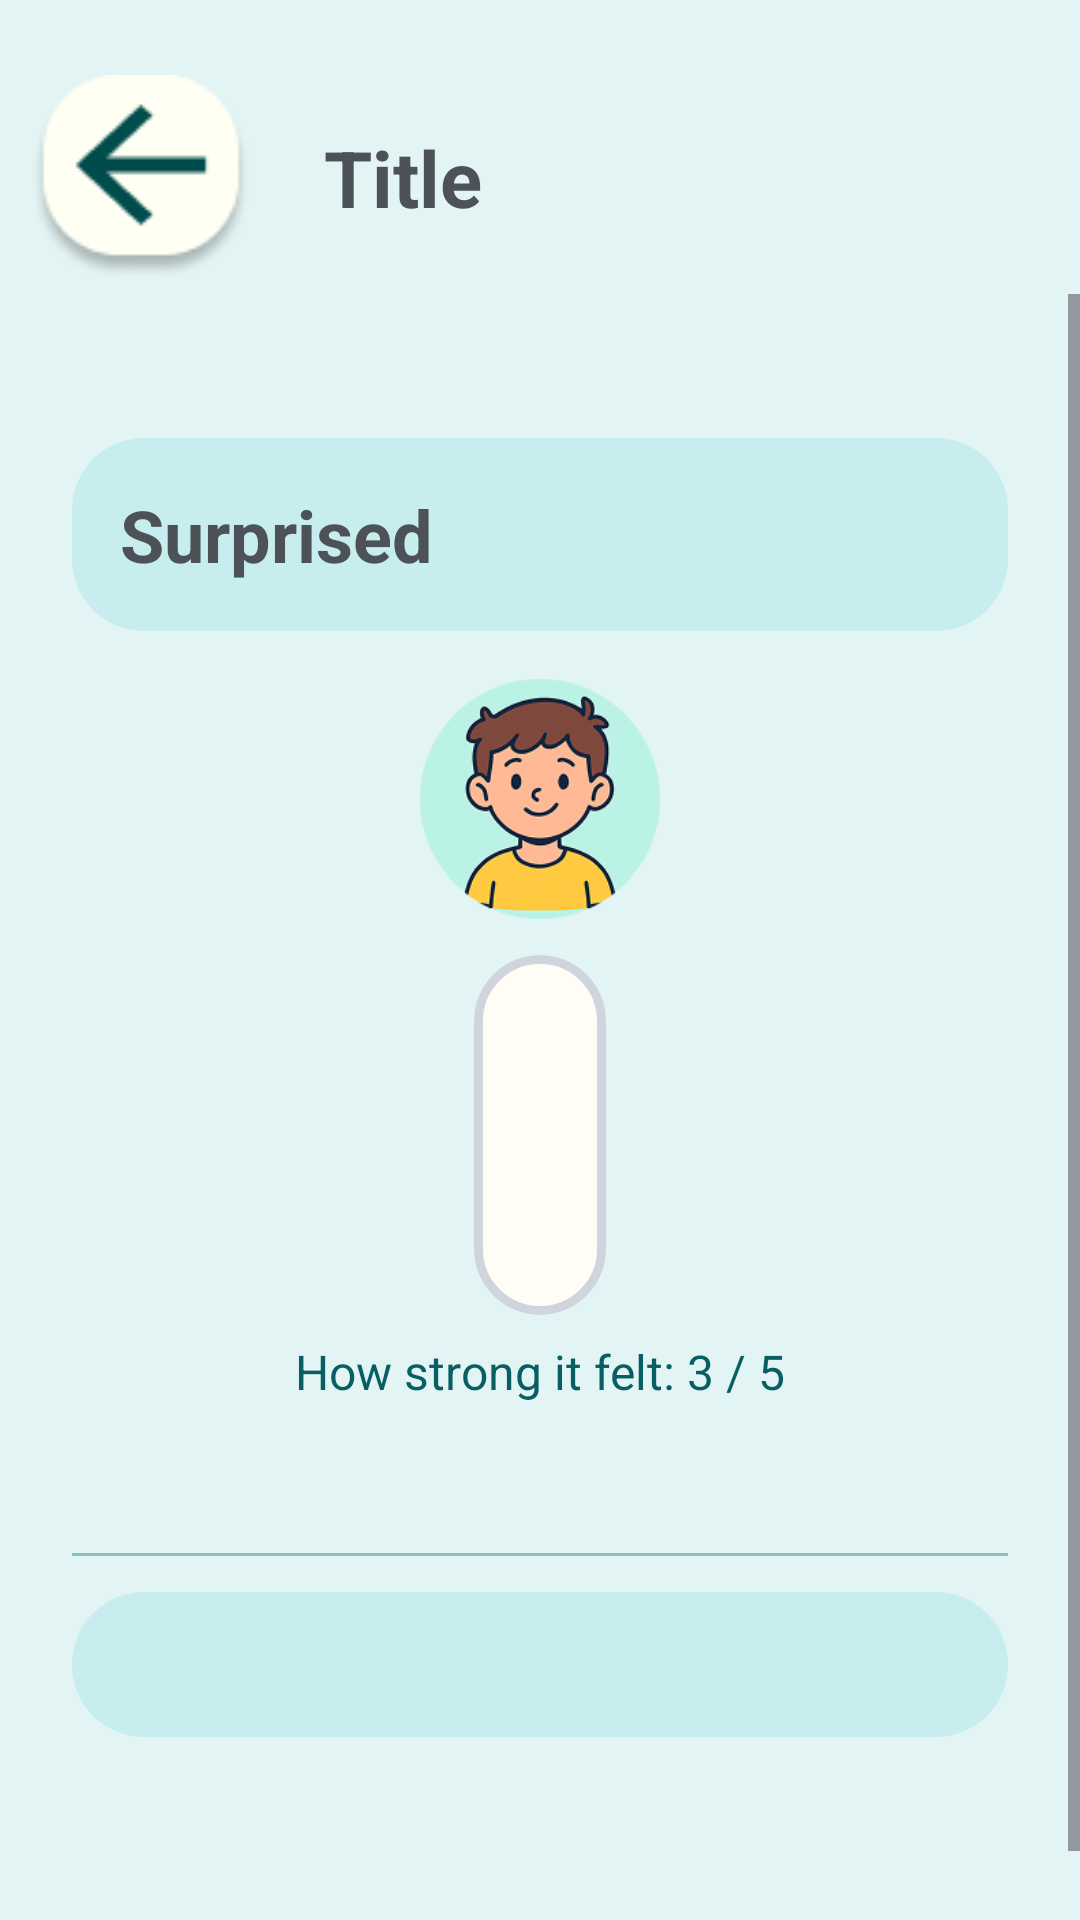

Icons on this 1080w x 1920h Android screen, each with the point to tap as point (x, y):
Back: point (141, 171)
Emotion icon: point (540, 799)
